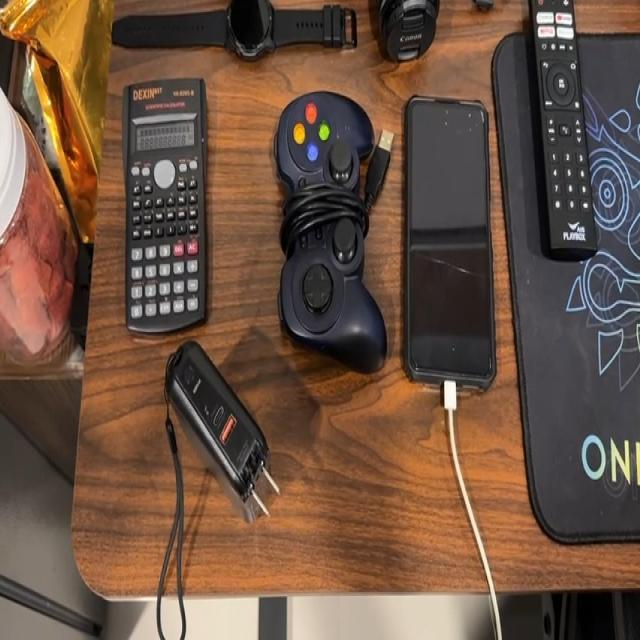calculator: (102, 68, 220, 340)
earphone: (372, 0, 457, 65)
joy stick: (247, 91, 393, 369)
remote: (520, 0, 611, 262)
smart phone: (402, 98, 506, 396)
watch: (96, 5, 366, 65)
